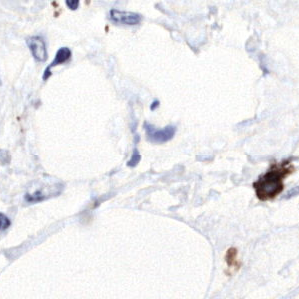Lymphocyte: (253, 164, 293, 200)
